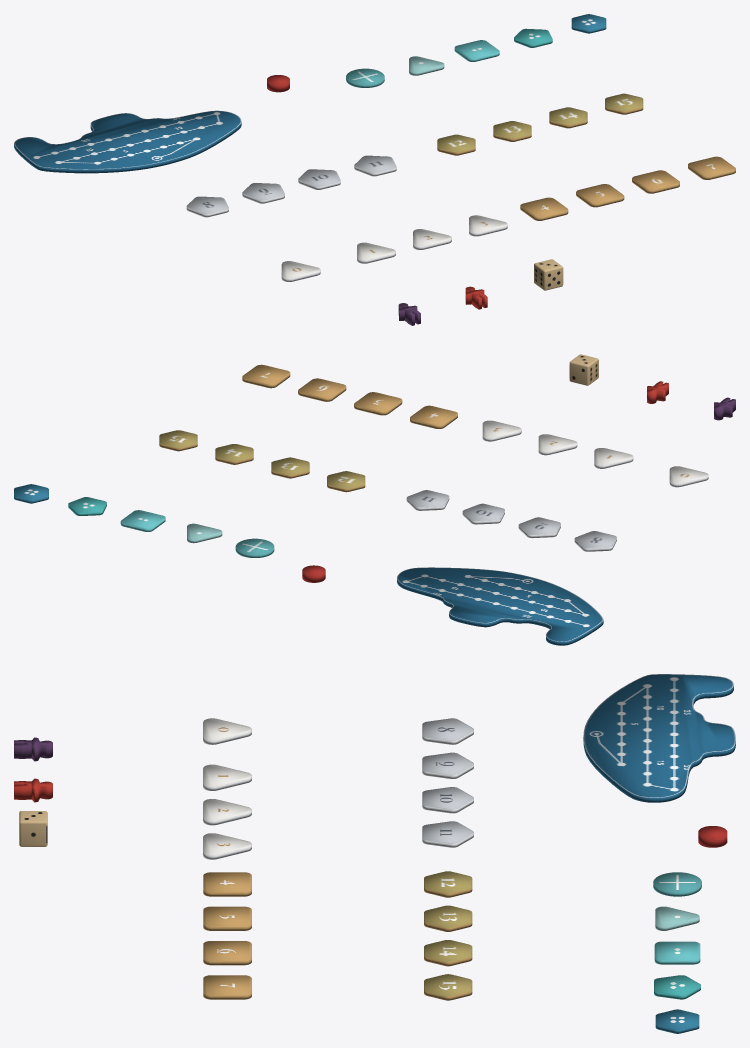
The model's file is deep-sea-adventure.glb.
The picture shows the model from 3 angles, top to bottom: view 1: azimuth 30°, elevation 25°; view 2: azimuth 150°, elevation 25°; view 3: azimuth 270°, elevation 25°; orthographic projection. The views are drawn at different scales.
Visible parts, largest first — view 1: submarine_board, sq_4, sq_5, sq_6, sq_7, die, pen_10, pen_9, pen_8, pen_11, back_square, hex_12 (+11 smaller); view 2: submarine_board, sq_6, sq_5, sq_7, die, sq_4, pen_8, pen_10, pen_11, pen_9, back_square, hex_13 (+11 smaller); view 3: submarine_board, sq_4, sq_5, sq_7, sq_6, pen_11, pen_8, pen_10, pen_9, back_square, hex_15, hex_14 (+14 smaller).
Boxes of the visible parts, x1=… form: submarine_board: x1=14, y1=110, x2=241, y2=173; sq_4: x1=520, y1=197, x2=568, y2=220; sq_5: x1=576, y1=184, x2=624, y2=207; sq_6: x1=632, y1=170, x2=679, y2=193; sq_7: x1=688, y1=156, x2=735, y2=179; die: x1=534, y1=259, x2=563, y2=290; pen_10: x1=298, y1=169, x2=340, y2=189; pen_9: x1=242, y1=183, x2=284, y2=203; pen_8: x1=186, y1=196, x2=228, y2=217; pen_11: x1=354, y1=155, x2=396, y2=176; back_square: x1=454, y1=40, x2=499, y2=61; hex_12: x1=437, y1=134, x2=475, y2=155; submarine_board: x1=397, y1=567, x2=603, y2=645; sq_6: x1=298, y1=378, x2=346, y2=401; sq_5: x1=354, y1=392, x2=402, y2=415; sq_7: x1=242, y1=364, x2=290, y2=388; die: x1=569, y1=354, x2=598, y2=385; sq_4: x1=410, y1=405, x2=457, y2=428; pen_8: x1=574, y1=531, x2=616, y2=551; pen_10: x1=462, y1=503, x2=504, y2=524; pen_11: x1=406, y1=490, x2=449, y2=510; pen_9: x1=518, y1=517, x2=560, y2=538; back_square: x1=120, y1=510, x2=165, y2=531; hex_13: x1=271, y1=457, x2=309, y2=478; submarine_board: x1=583, y1=674, x2=735, y2=802; sq_4: x1=203, y1=872, x2=251, y2=896; sq_5: x1=203, y1=906, x2=251, y2=930; sq_7: x1=203, y1=975, x2=251, y2=999; sq_6: x1=203, y1=941, x2=251, y2=965; pen_11: x1=422, y1=821, x2=473, y2=847; pen_8: x1=422, y1=718, x2=473, y2=744; pen_10: x1=422, y1=787, x2=473, y2=813; pen_9: x1=422, y1=752, x2=473, y2=778; back_square: x1=654, y1=941, x2=700, y2=964; hex_15: x1=424, y1=974, x2=472, y2=1000; hex_14: x1=424, y1=940, x2=472, y2=966.
Size of the model in its own units: 0.476 by 0.016 by 0.4092.
70 materials, 45 textured.
